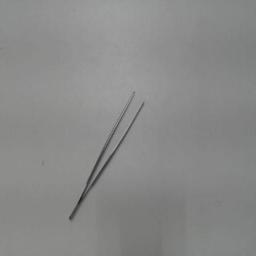Gillies Toothed Dissector: (62, 86, 152, 228)
